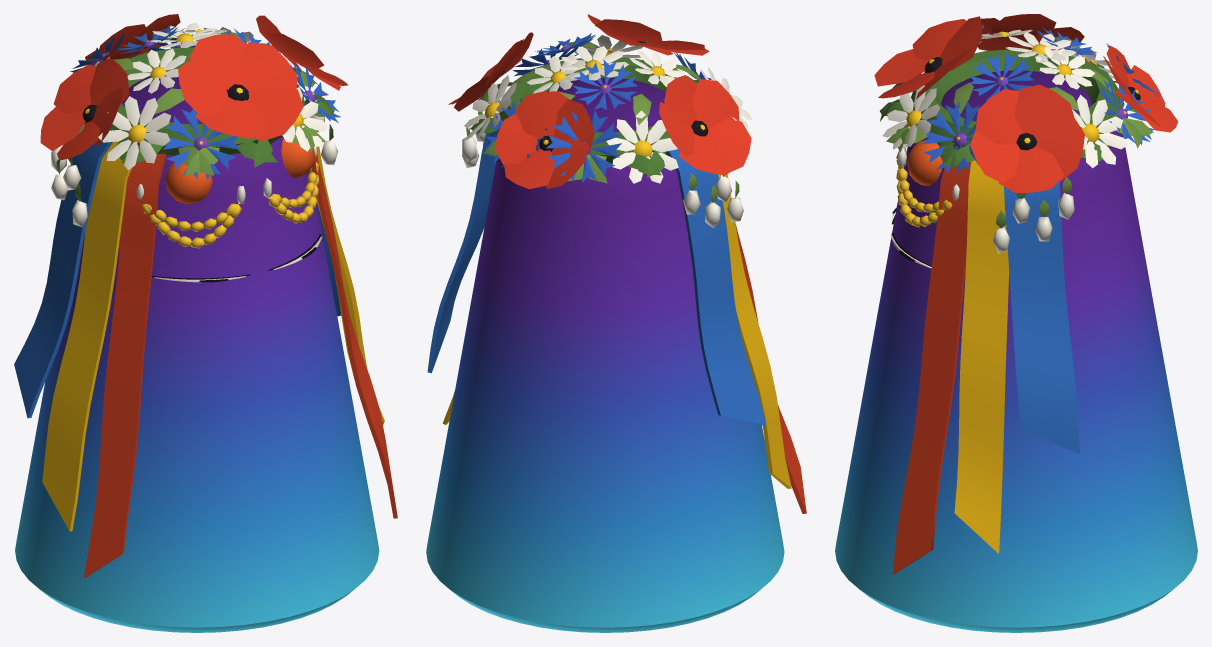
Rendered from fig4_vinok.glb.
The picture shows the model from 3 angles, left to right: view 1: azimuth 30°, elevation 25°; view 2: azimuth 150°, elevation 25°; view 3: azimuth 270°, elevation 25°; orthographic projection.
Parts seen in each view (by area): view 1: fig4_vinok; view 2: fig4_vinok; view 3: fig4_vinok.
Boxes of the visible parts, left/top/right/bottom form: fig4_vinok: left=14, top=14, right=397, bottom=632; fig4_vinok: left=426, top=14, right=806, bottom=632; fig4_vinok: left=835, top=14, right=1197, bottom=632.
Size of the model in its own units: 2.14 by 3.23 by 1.98.
1 material, 1 textured.
